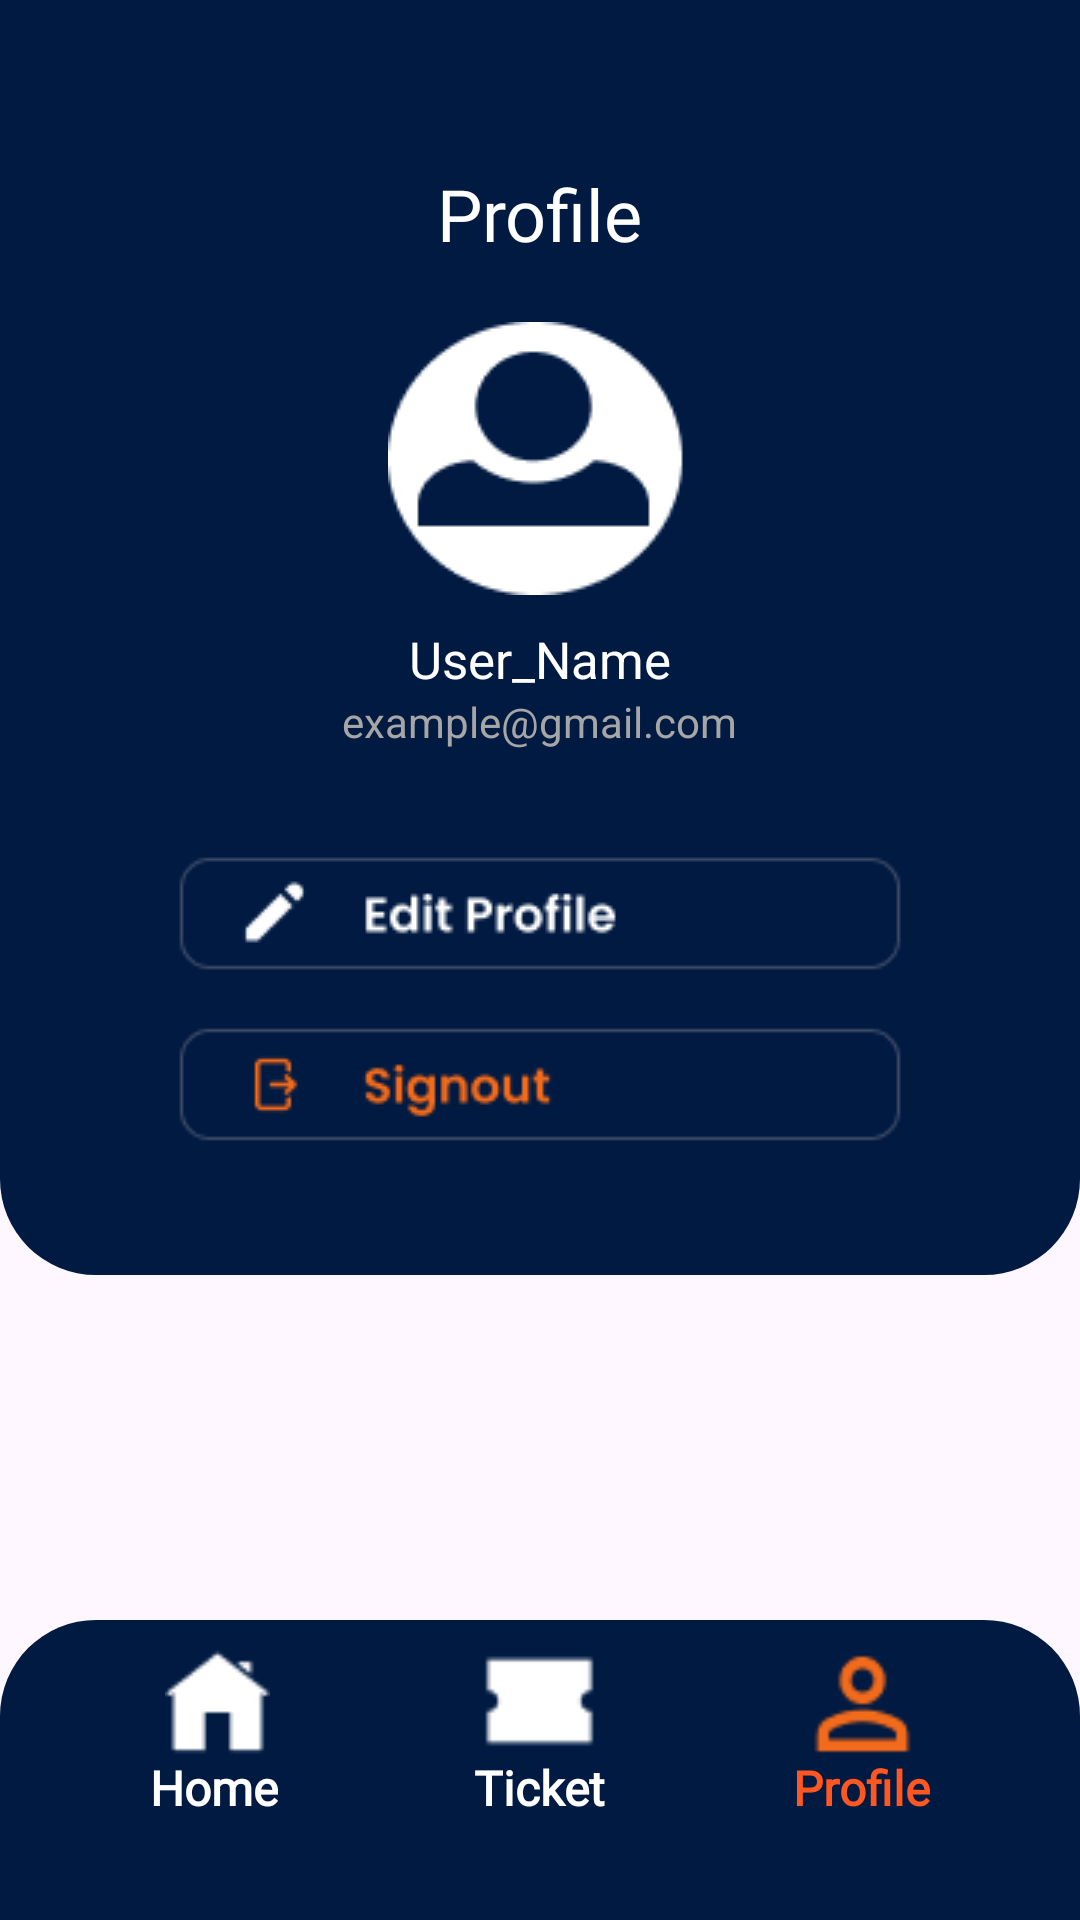

Screen size 1080x1920. Icon name, then its center in pixels as (x=x, y=y):
person hl: (x=862, y=1704)
